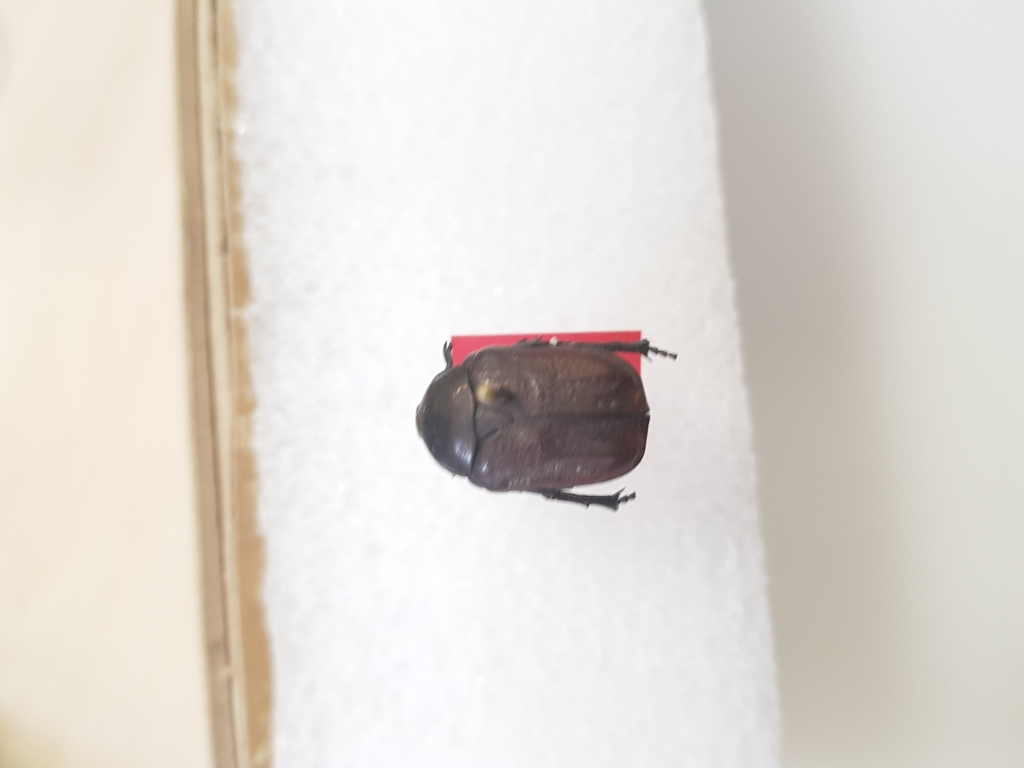Protaetia_asiatica: (398, 326, 693, 523)
